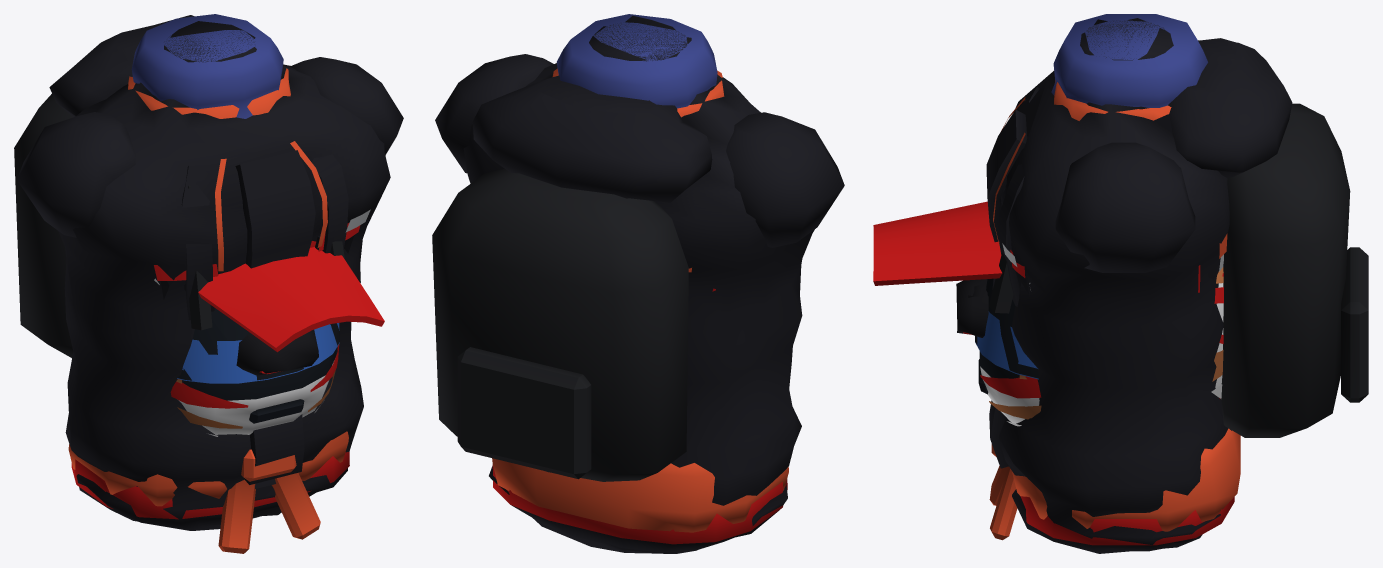
The model's file is rider.glb.
3 views of the same model, side by side, from view 1: azimuth 30°, elevation 25°; view 2: azimuth 150°, elevation 25°; view 3: azimuth 270°, elevation 25° (orthographic). The views are drawn at different scales.
Visible parts, largest first — view 1: torso_rain, torso_bands, torso_open, peak, neck, backpack, helmet, helmet_band, torso_touring, boot_cover, helmet_streak, helmet_chin (+2 smaller); view 2: backpack, torso_rain, torso_bands, torso_open, neck, torso_touring, torso; view 3: torso_rain, backpack, torso_bands, neck, peak, torso_open, torso_touring, helmet_streak, helmet, boot_cover, helmet_band, helmet_chin (+1 smaller).
Part boxes in pixels (x1=…): torso_rain: x1=49, y1=15, x2=390, y2=530; torso_bands: x1=17, y1=57, x2=403, y2=237; torso_open: x1=68, y1=154, x2=348, y2=553; peak: x1=198, y1=247, x2=384, y2=352; neck: x1=131, y1=14, x2=283, y2=118; backpack: x1=14, y1=94, x2=344, y2=357; helmet: x1=178, y1=348, x2=336, y2=434; helmet_band: x1=177, y1=307, x2=339, y2=383; torso_touring: x1=71, y1=452, x2=349, y2=526; boot_cover: x1=236, y1=329, x2=318, y2=375; helmet_streak: x1=170, y1=344, x2=339, y2=436; helmet_chin: x1=178, y1=319, x2=339, y2=380; backpack: x1=432, y1=168, x2=688, y2=481; torso_rain: x1=463, y1=16, x2=814, y2=553; torso_bands: x1=435, y1=54, x2=844, y2=247; torso_open: x1=492, y1=458, x2=788, y2=532; neck: x1=556, y1=14, x2=717, y2=108; torso_touring: x1=492, y1=464, x2=787, y2=552; torso: x1=594, y1=23, x2=687, y2=61; torso_rain: x1=986, y1=18, x2=1292, y2=553; backpack: x1=989, y1=99, x2=1368, y2=437; torso_bands: x1=1002, y1=80, x2=1195, y2=272; neck: x1=1051, y1=14, x2=1207, y2=107; peak: x1=873, y1=201, x2=1002, y2=285; torso_open: x1=989, y1=87, x2=1240, y2=540; torso_touring: x1=1020, y1=496, x2=1234, y2=551; helmet_streak: x1=980, y1=273, x2=1223, y2=426; helmet: x1=978, y1=283, x2=1223, y2=423; boot_cover: x1=956, y1=279, x2=988, y2=337; helmet_band: x1=975, y1=278, x2=1038, y2=379; helmet_chin: x1=975, y1=299, x2=1038, y2=378.
Size of the model in its own units: 0.464 by 0.591 by 0.536.
